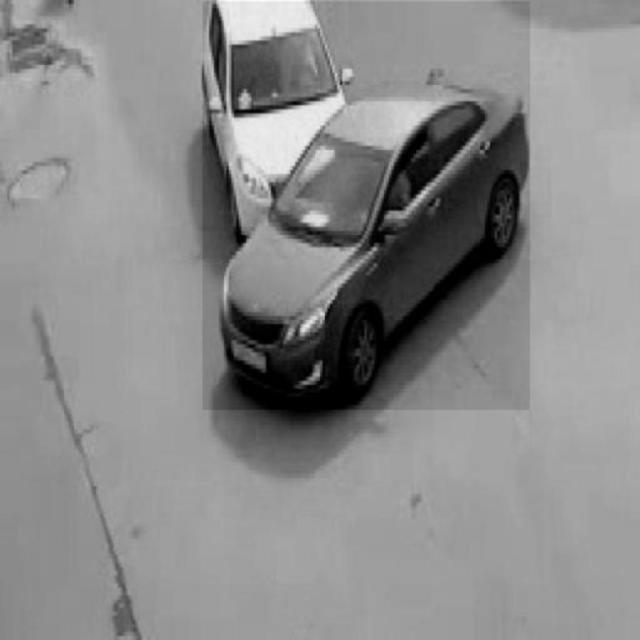accident: (203, 2, 530, 410)
